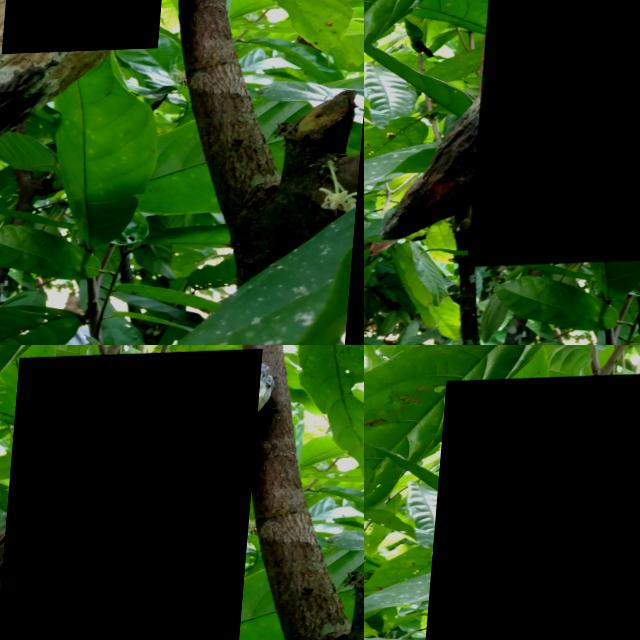Monilia: (432, 373, 640, 640)
Sana: (0, 352, 265, 640), (475, 0, 640, 268), (7, 0, 177, 56)
